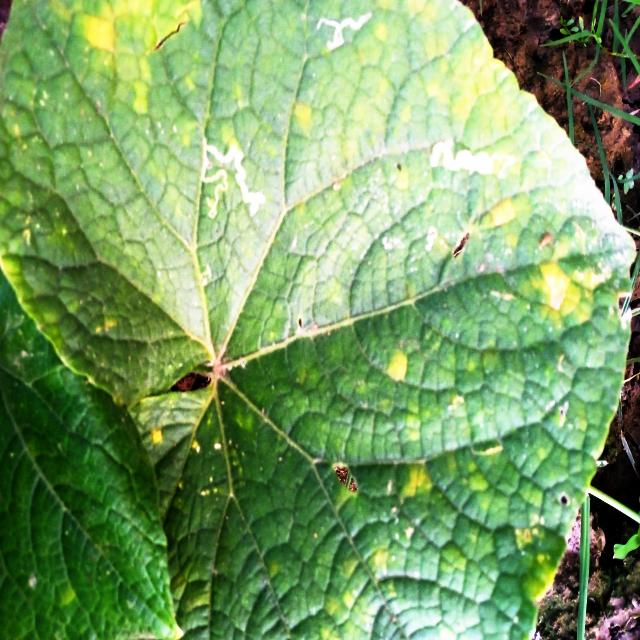Downy-Mildew: (3, 4, 625, 638)
